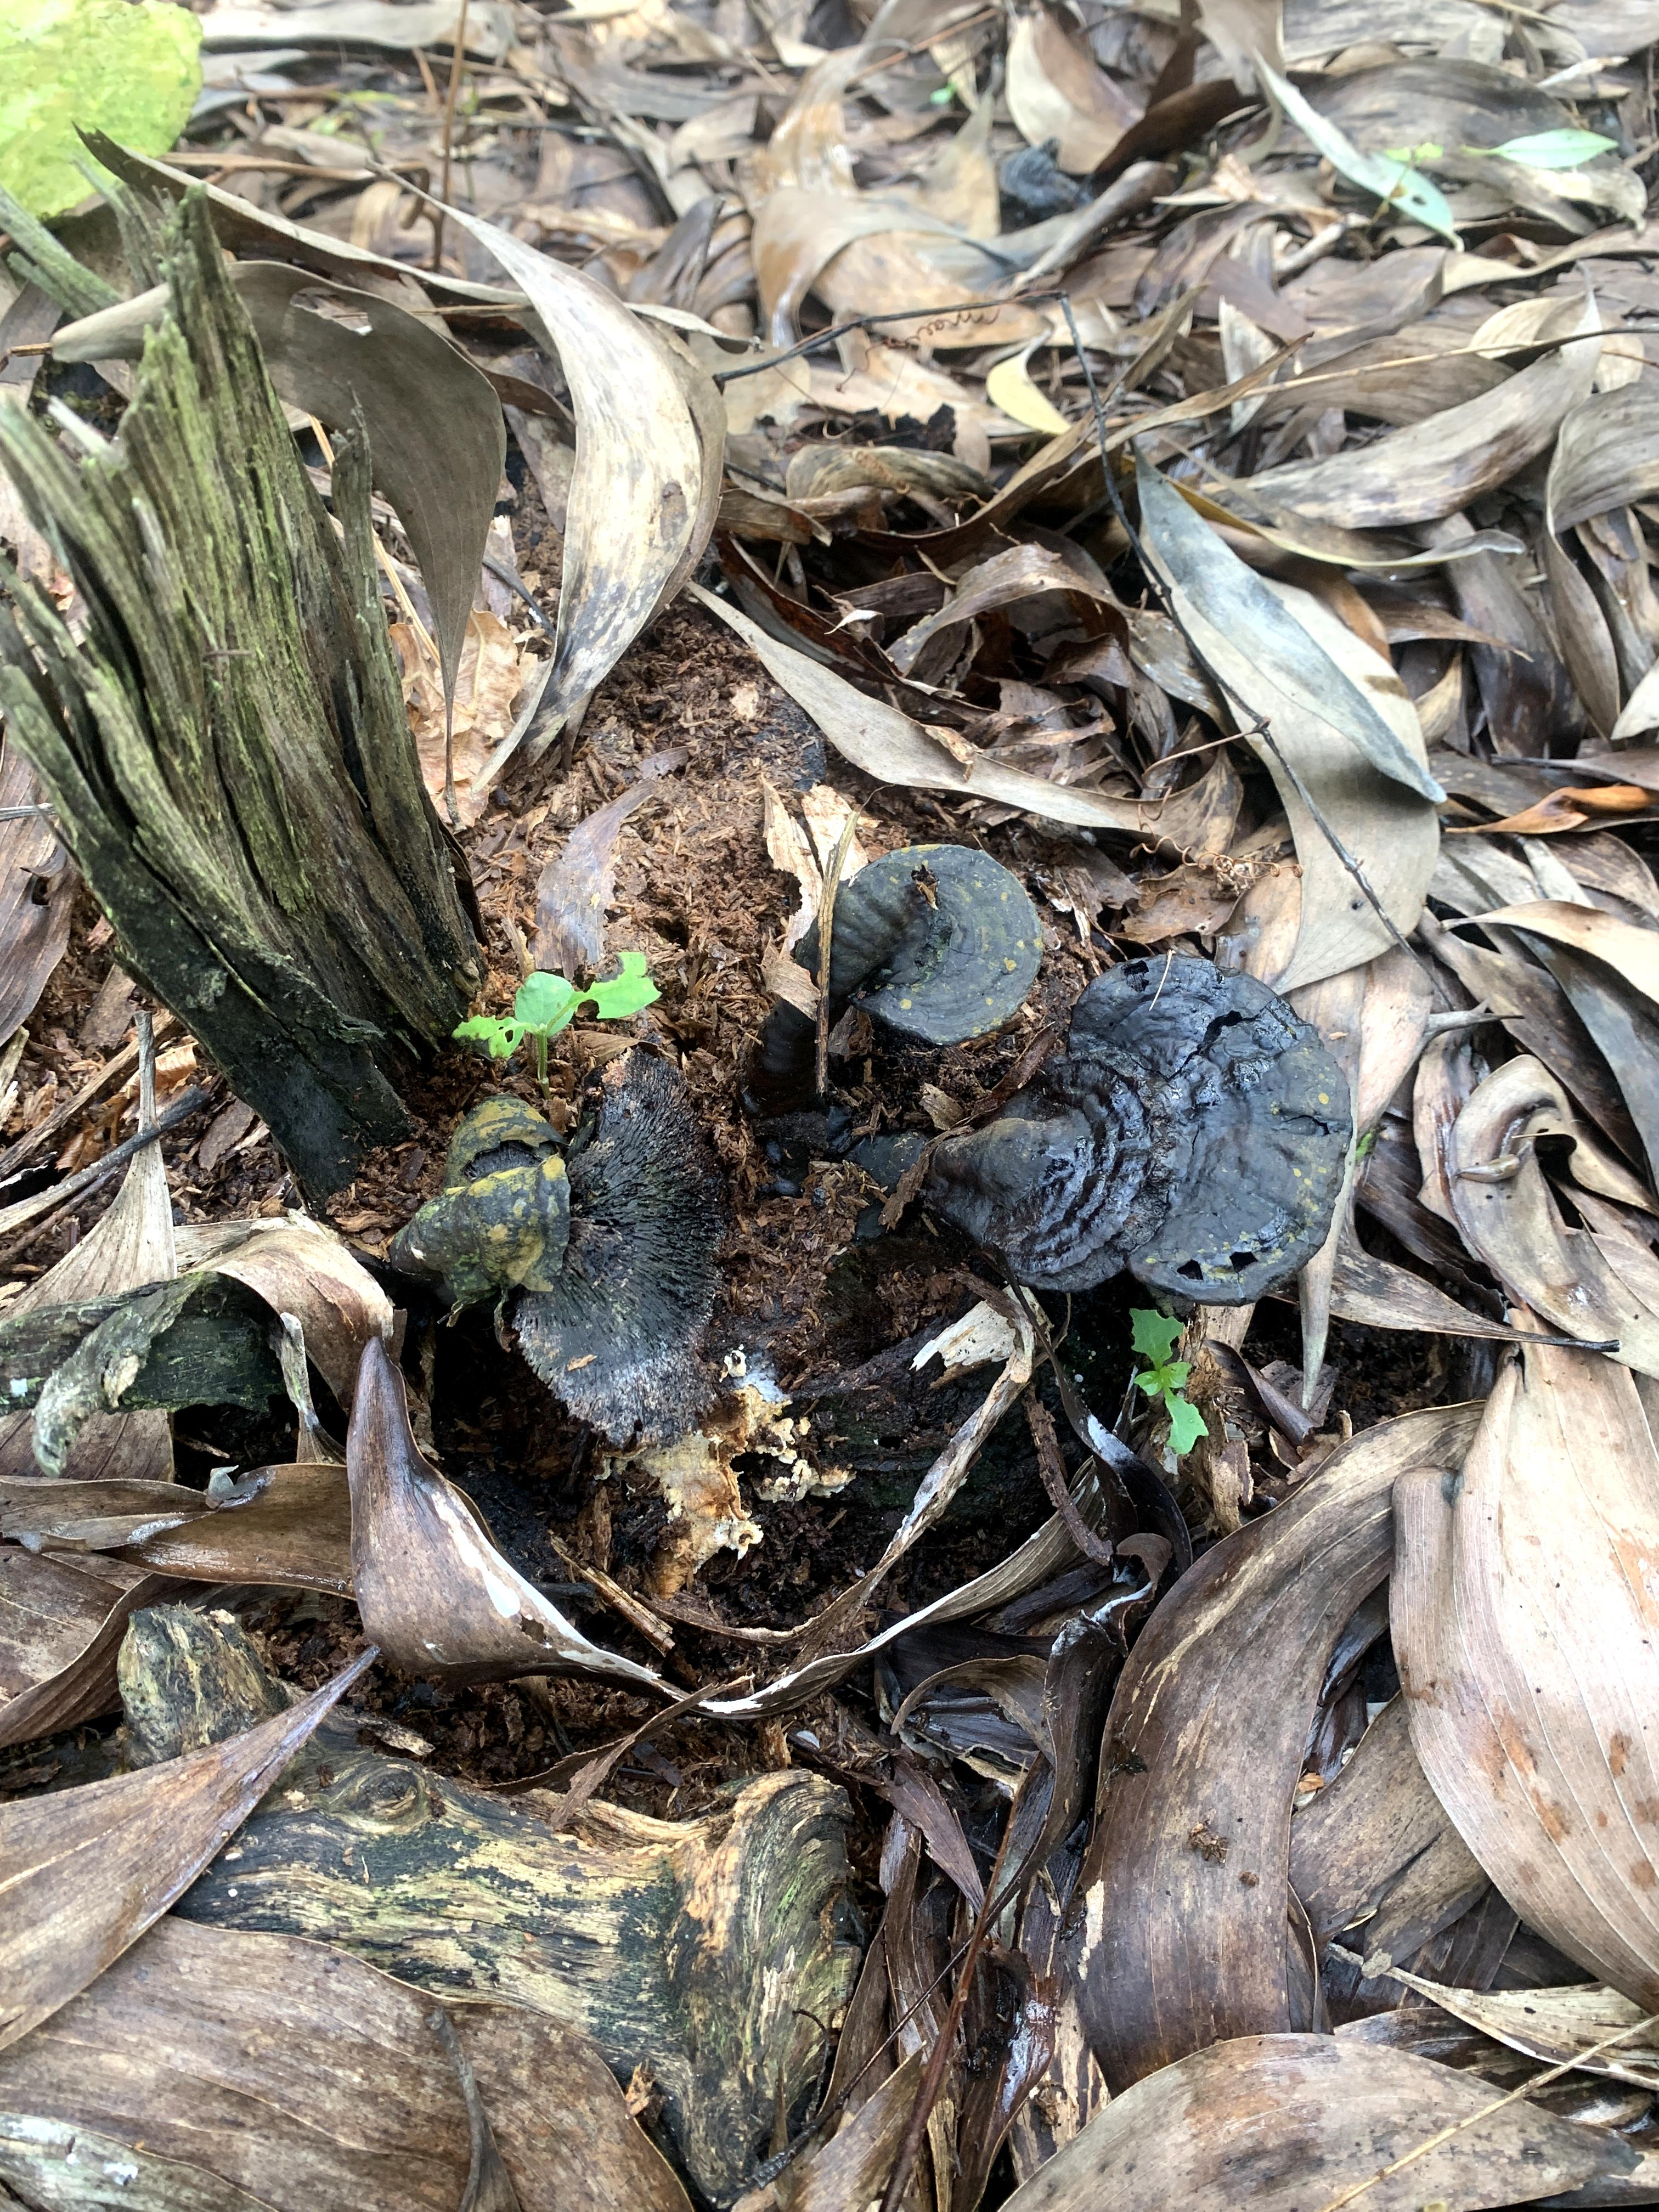Ganoderma - Fruit Body: (1021, 967, 1351, 1306), (791, 829, 1012, 1062)
